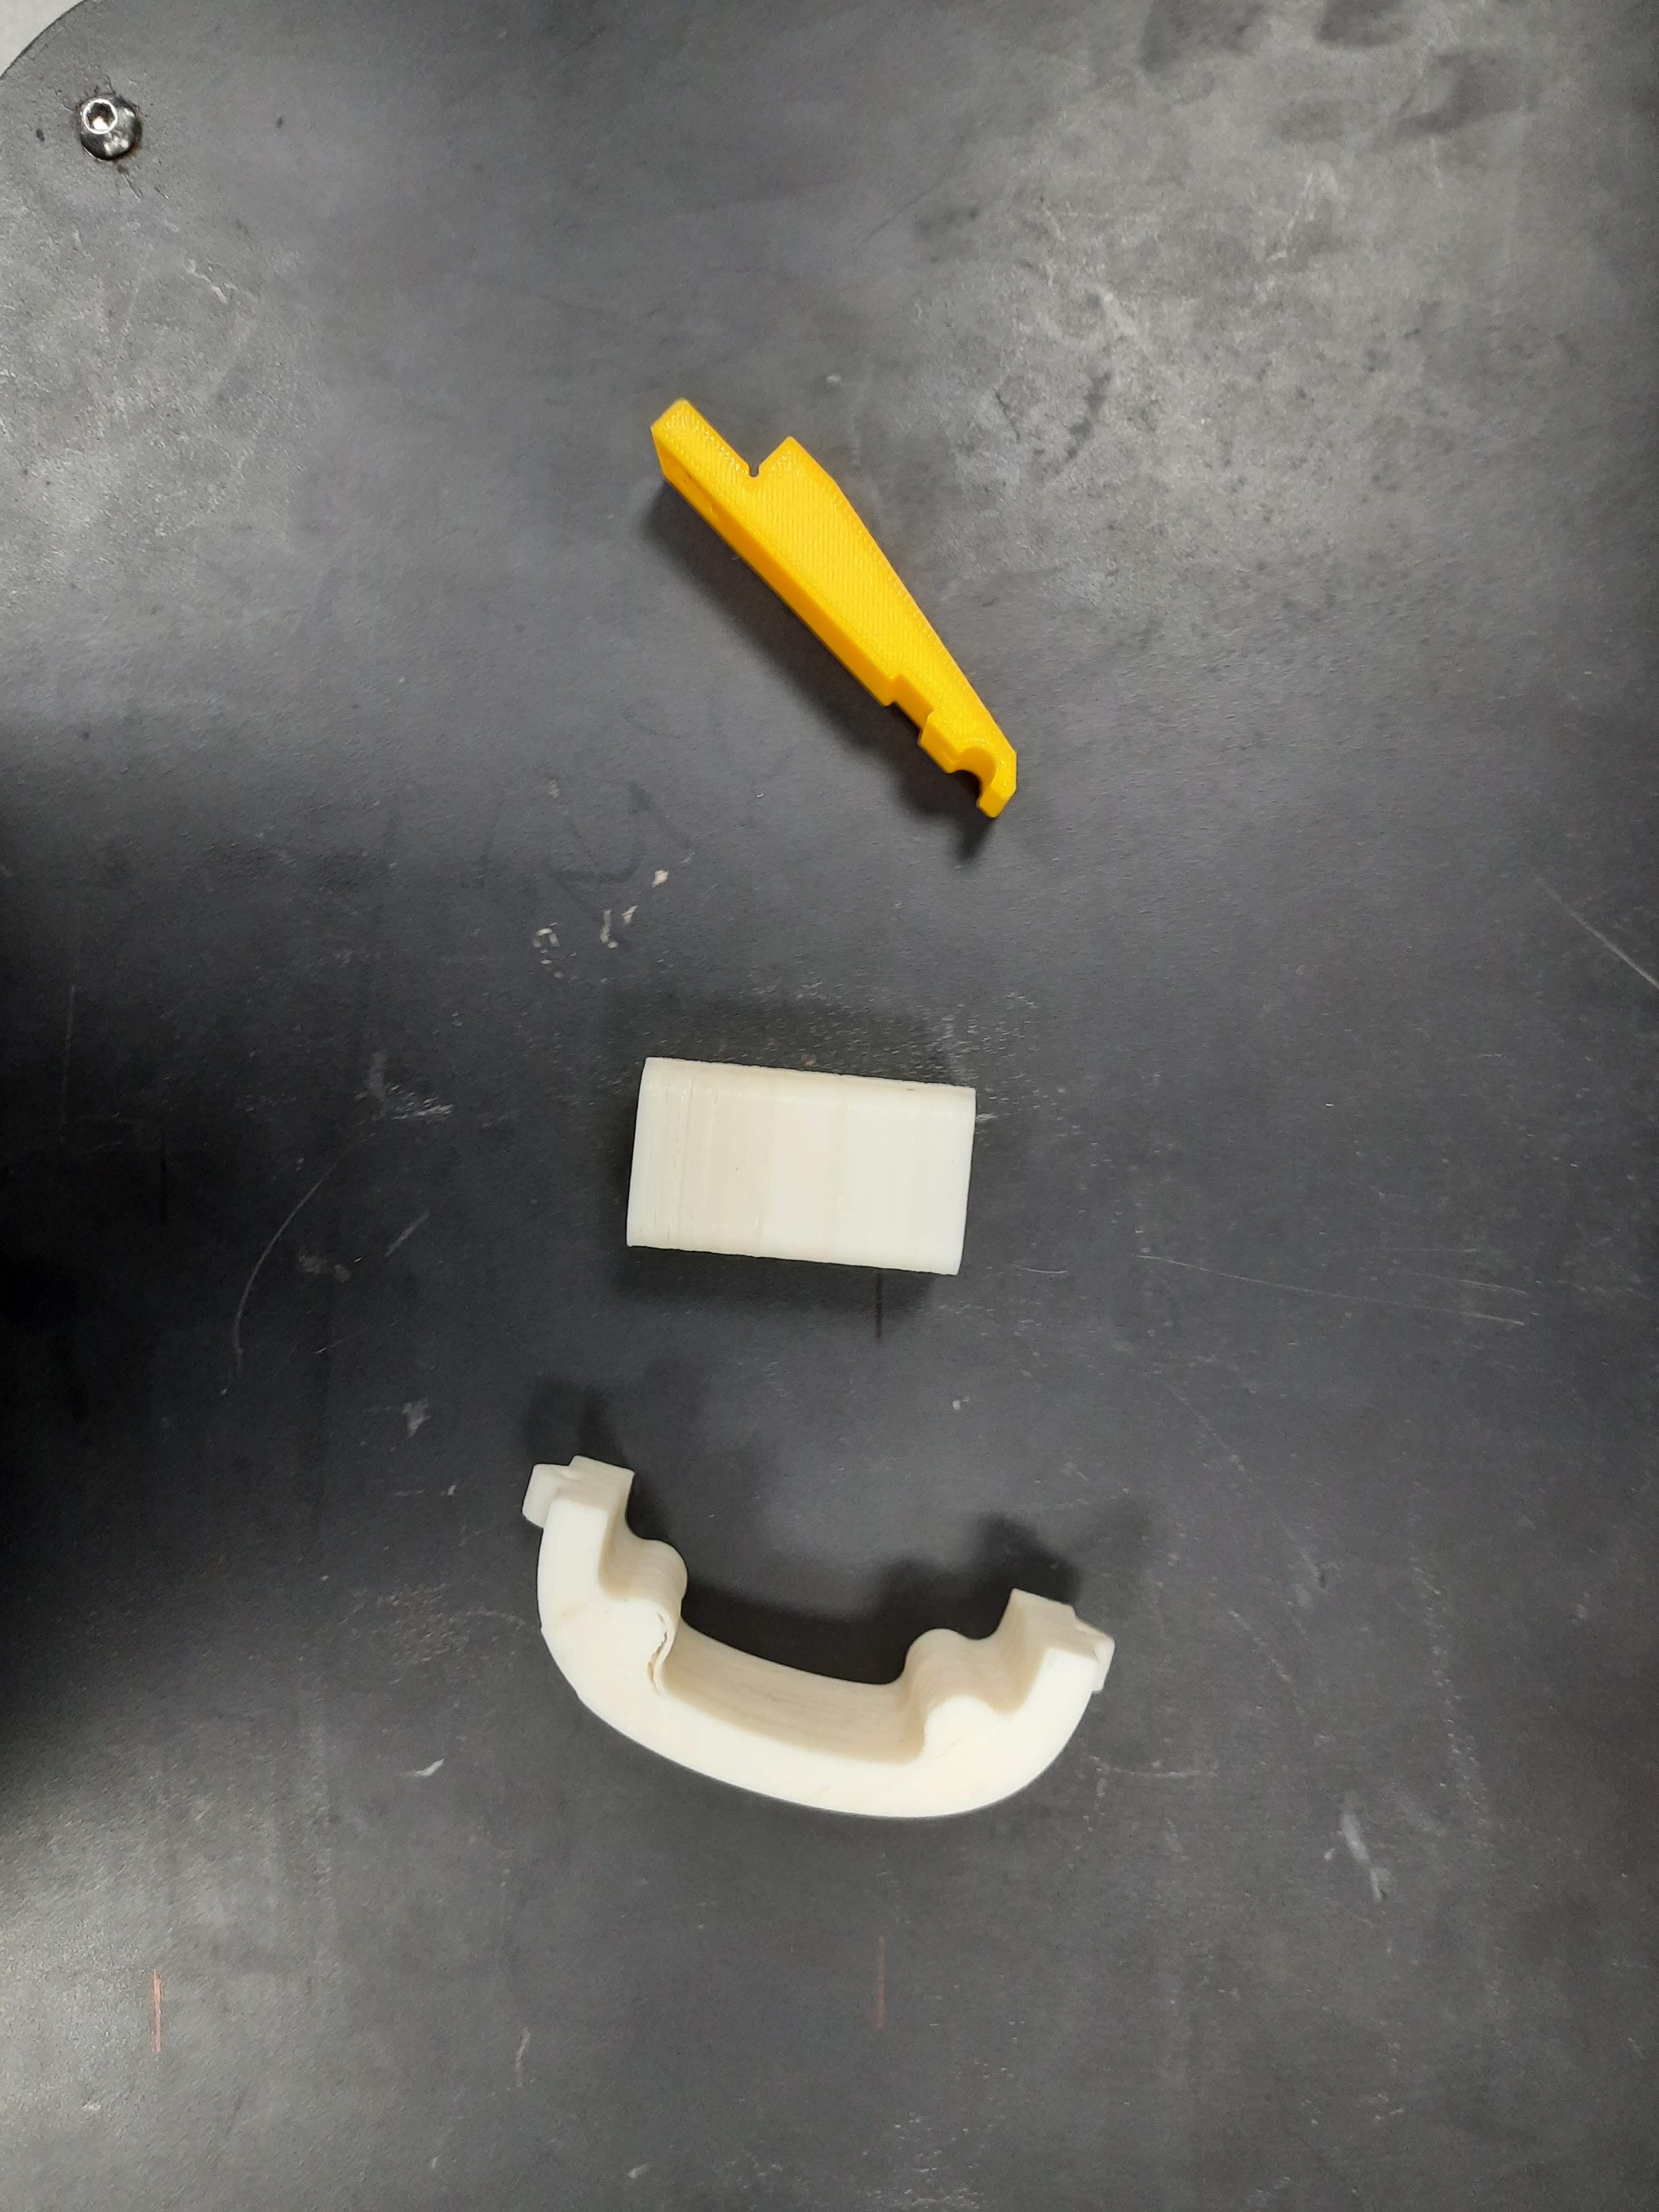ARC: (455, 1437, 1131, 1890)
CUBE: (619, 1055, 981, 1278)
YELLOW: (631, 348, 1087, 819)
